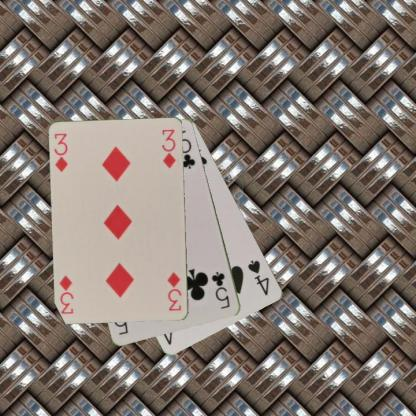3d: (52, 130, 70, 173), (165, 270, 182, 312)
4s: (246, 257, 271, 297)
5c: (209, 269, 232, 311)
